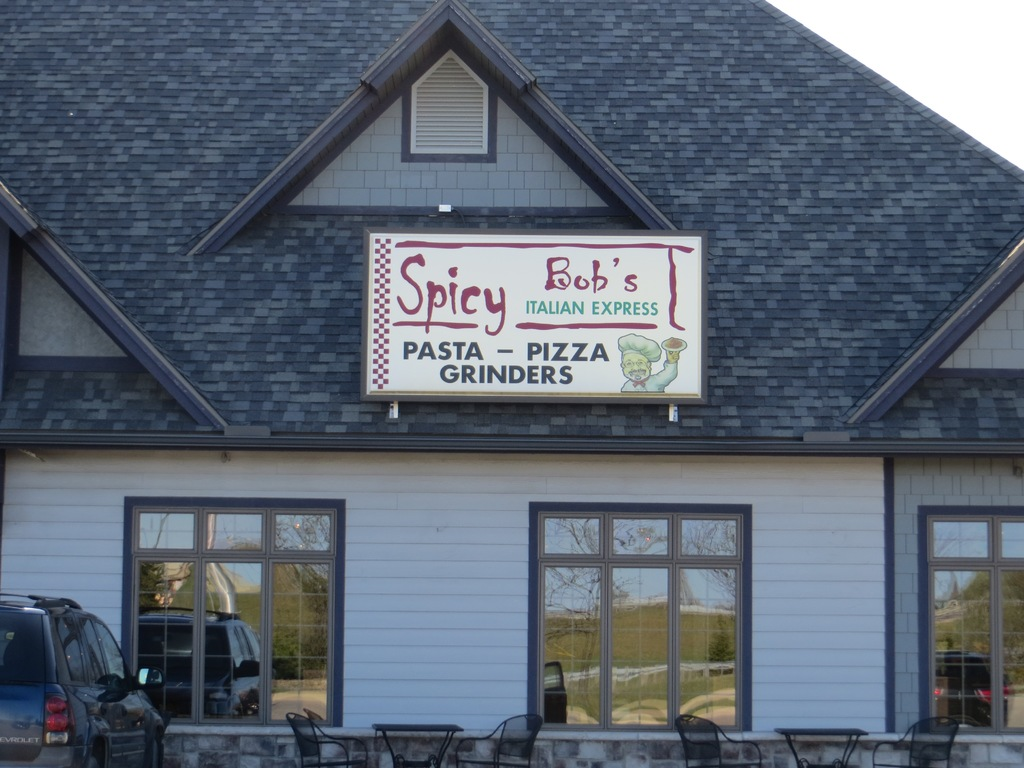Car: (10, 597, 151, 760)
